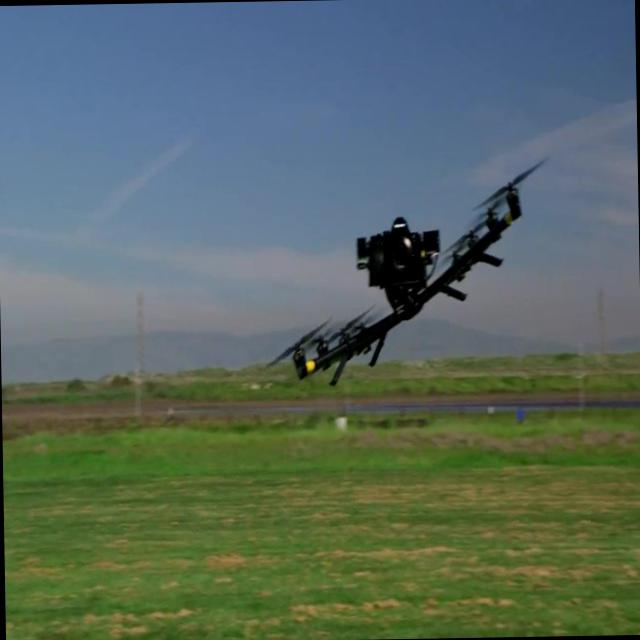drone: (287, 171, 527, 389)
